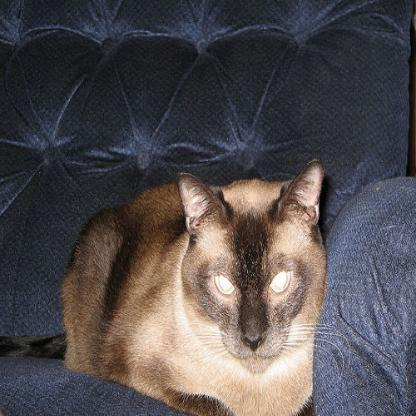cat: (0, 156, 326, 414)
sofa: (0, 0, 415, 415)
